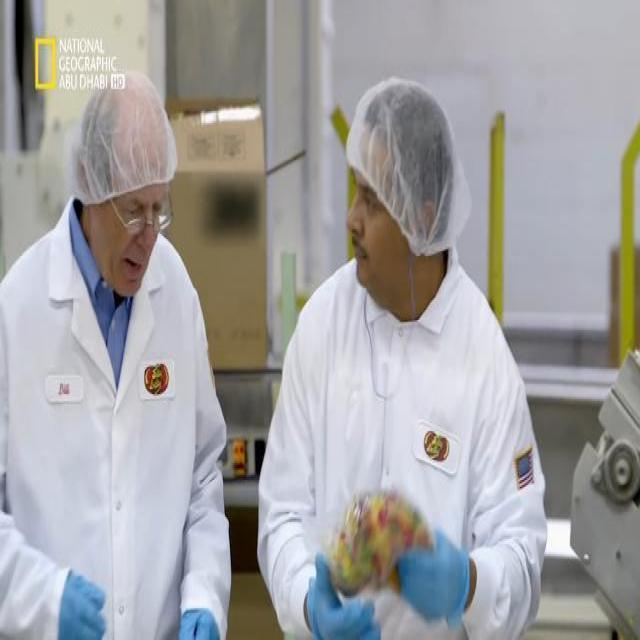gloved_hand: (390, 504, 484, 620), (295, 527, 386, 640), (41, 544, 119, 640), (167, 571, 227, 640)
